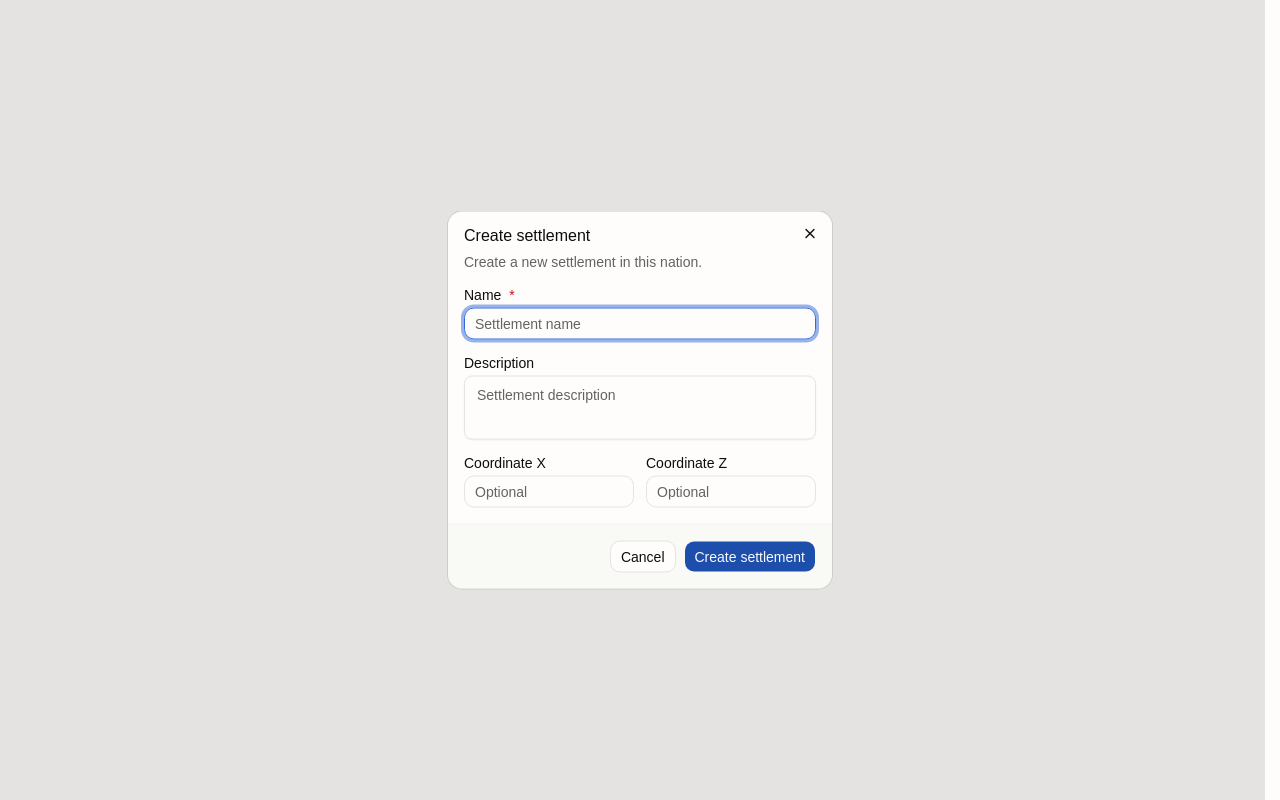
Test: CreateSettlementDialog › displays error message on mutation failure
Type "Duplicate Name" into the field with placeholder "Settlement name" at x=640, y=324, box x1=464 y1=308 x2=816 y2=340
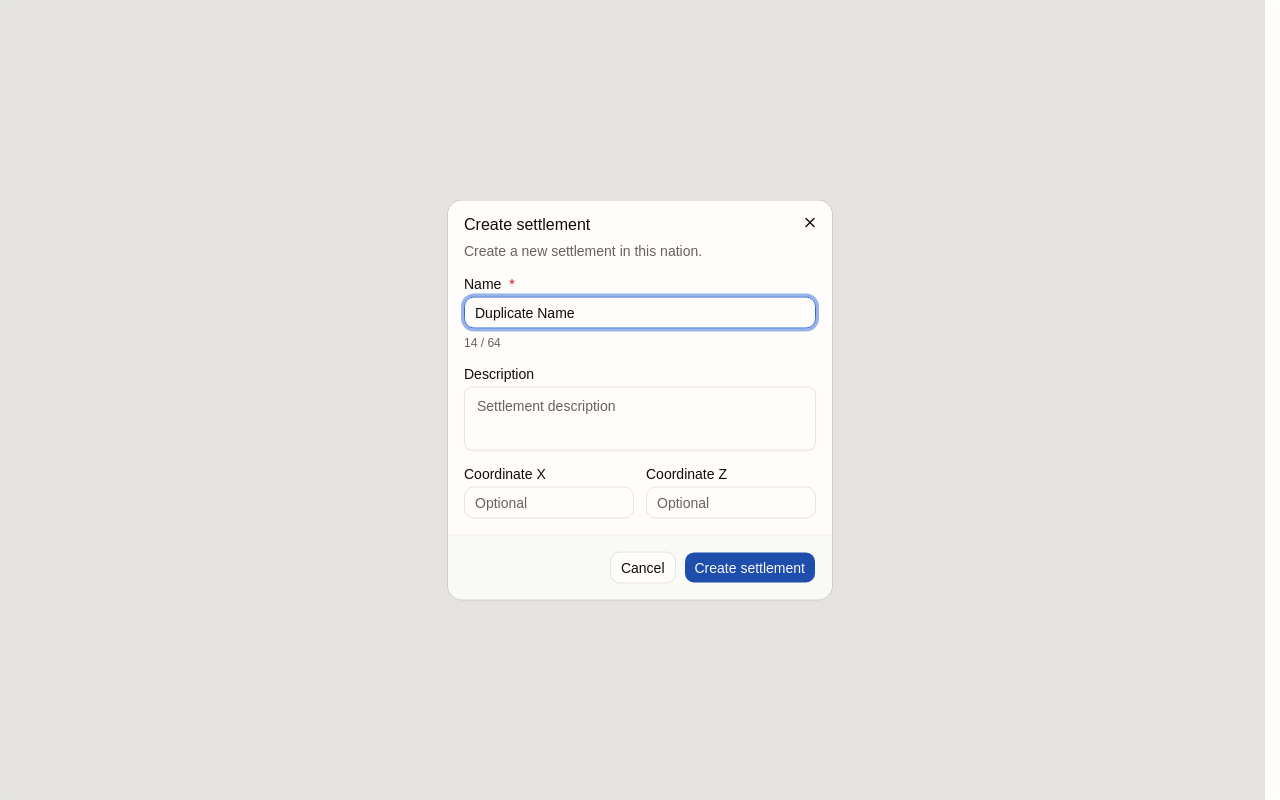
Click the button "Create settlement" at x=750, y=568, box x1=684 y1=552 x2=816 y2=584
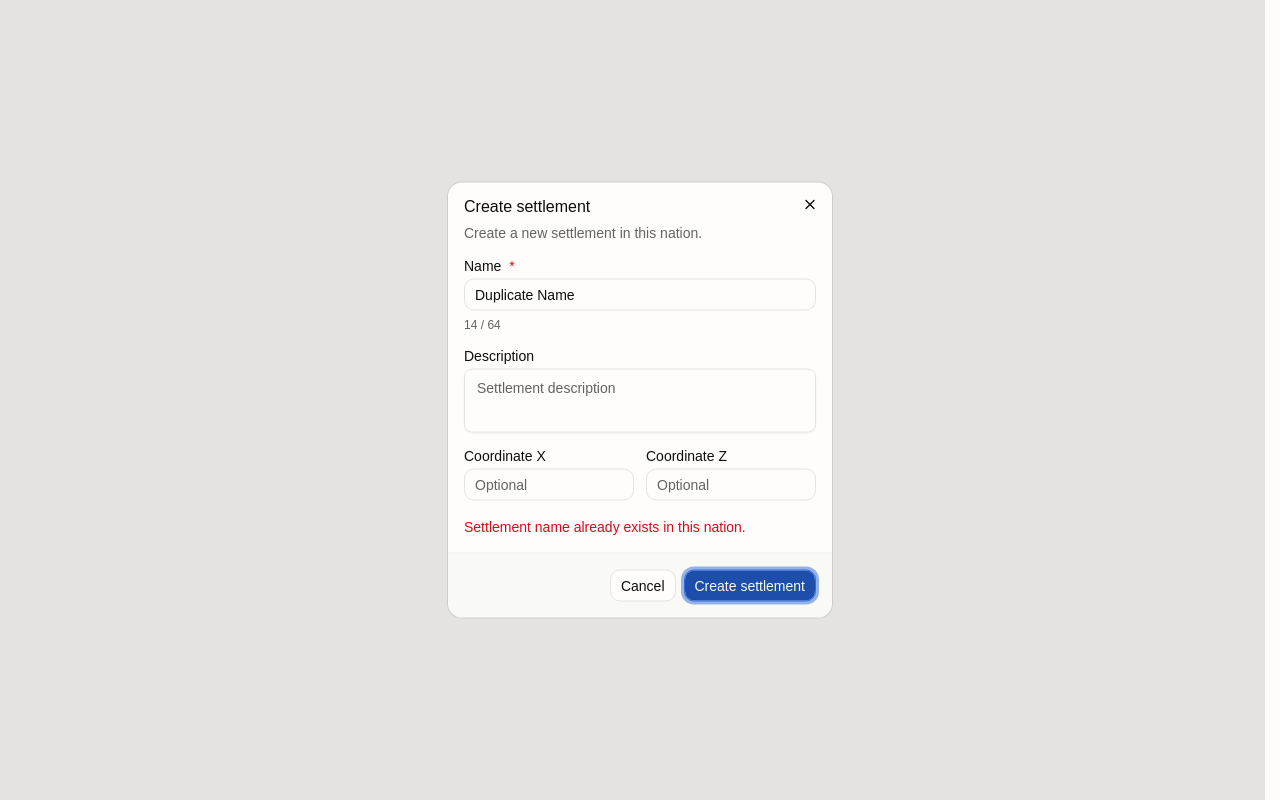
Expected: the text "Settlement name already exists in this nation." is shown, x1=464 y1=518 x2=746 y2=534
